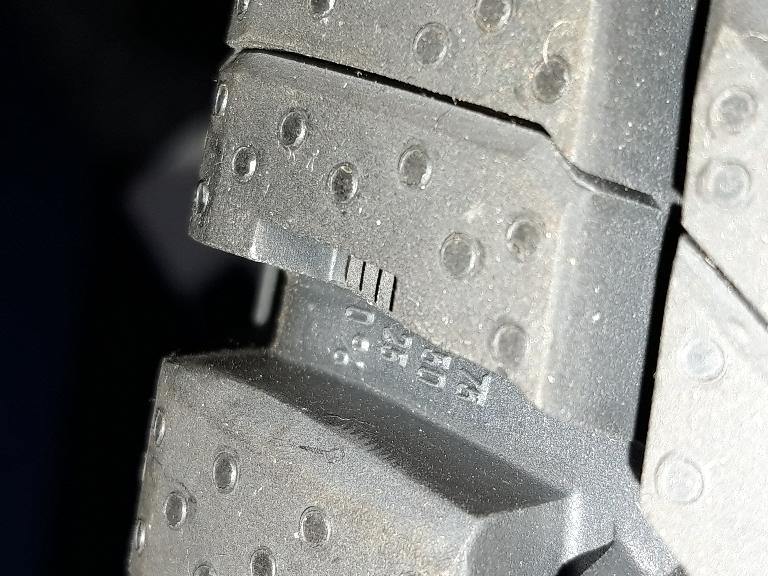temoin:100: (247, 218, 415, 331)
